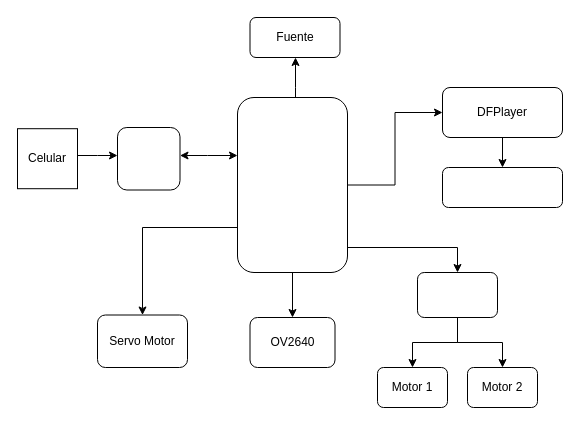
The diagram is 580 pixels wide and 425 high, and some of its shapes have lost their labels. The centre of each missing label's shape, as x and y in pixels:
ESP32 CAM: (292,184)
Parlante: (502,187)
Puente H: (457,295)
Servidor: (148,158)
